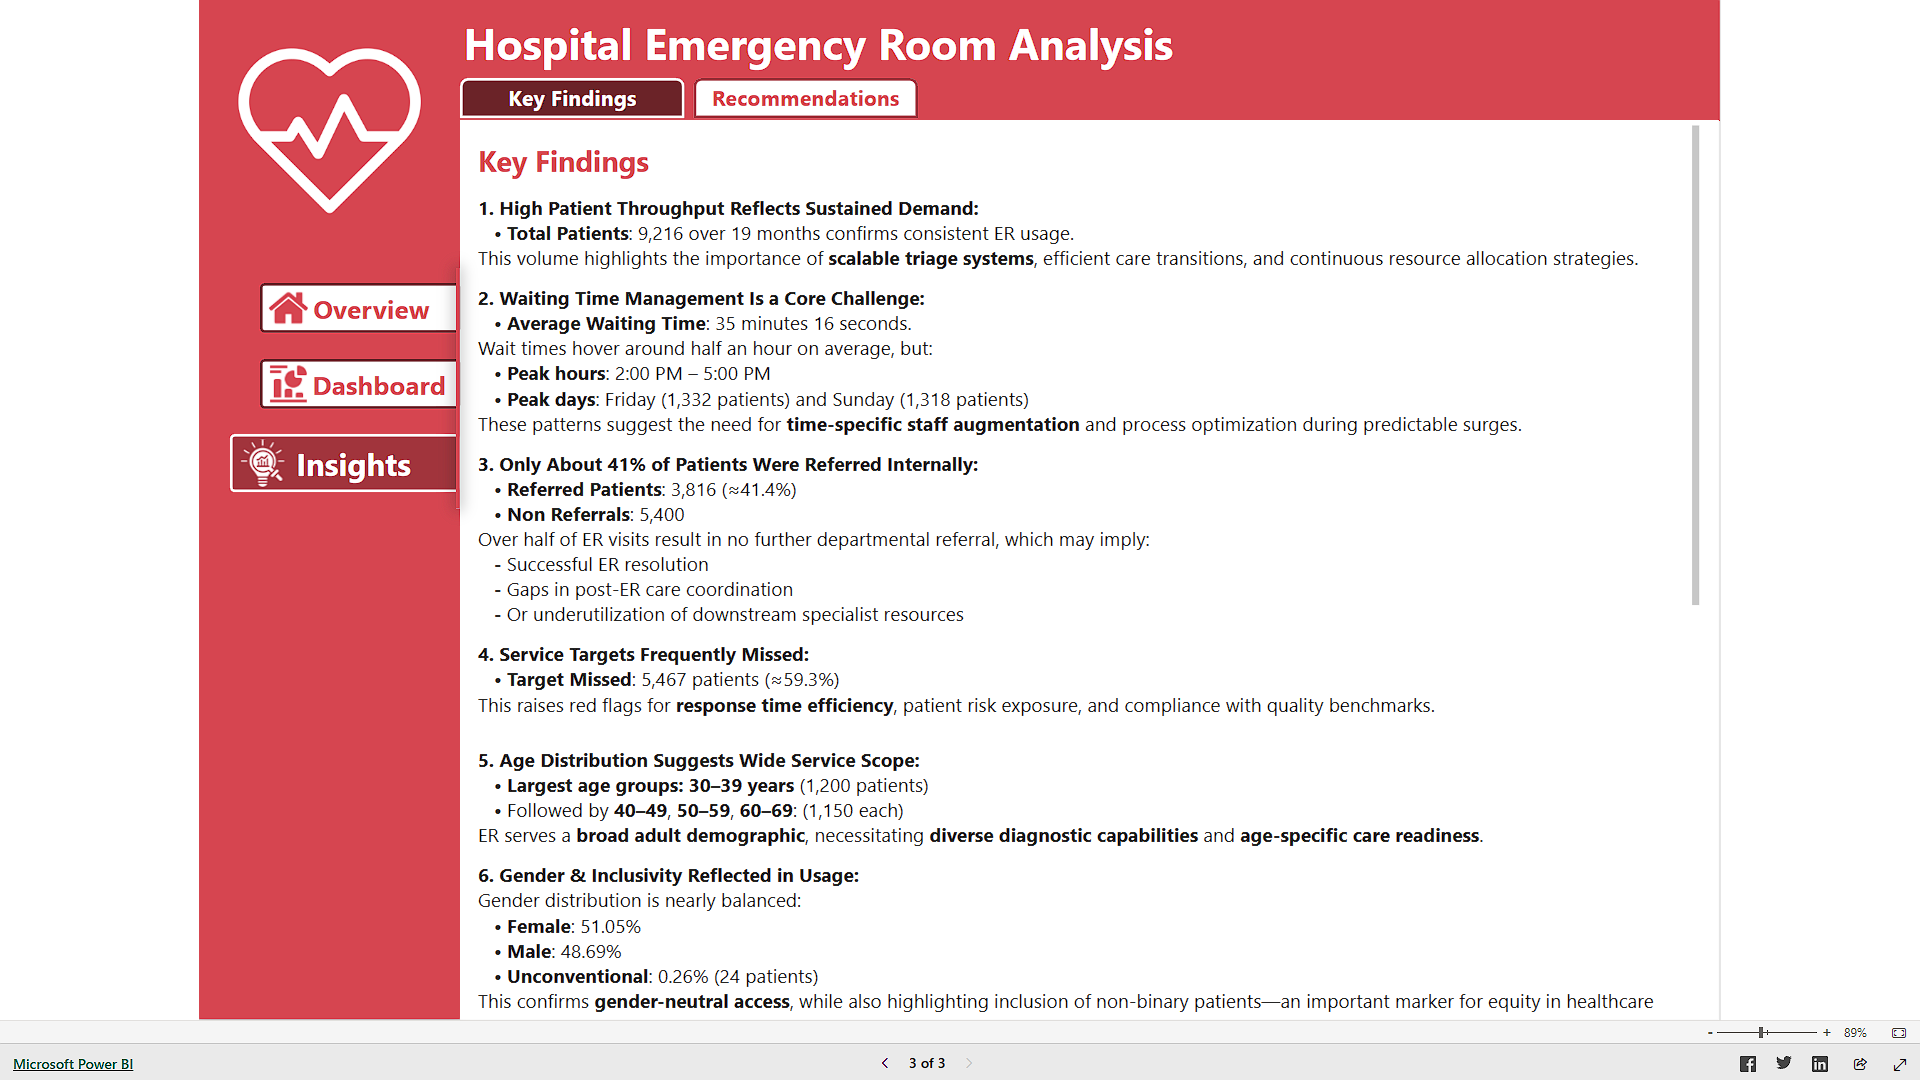

This screenshot's page, from the dashboard's own definition file:
{"tool":"powerbi","page":{"name":"Key Findings","canvas":[1700,1140],"ordinal":7},"visuals":[{"type":"shape","box":[0,0,292.2,1139.5],"z":0},{"type":"textbox","title":"Hospital Emergency Room Analysis","box":[290.8,14.7,938.4,91],"z":0,"group":"g1"},{"type":"actionButton","box":[68.2,316.7,224,55.7],"z":0,"group":"g2"},{"type":"shape","box":[292,0,1408,135],"z":1000},{"type":"actionButton","box":[68.2,401.6,224,55.7],"z":1000,"group":"g2"},{"type":"image","box":[0,38.6,291.4,214.3],"z":2000},{"type":"actionButton","box":[35,485.2,257,65],"z":2000,"group":"g2"},{"type":"shape","box":[291.4,134.3,1407.1,1005.7],"z":3000},{"type":"shape","box":[288,300,4.2,268.5],"z":3000,"group":"g2"},{"type":"textbox","box":[292.2,135,1405.2,1004.5],"z":4000},{"type":"pageNavigator","box":[292.2,87.7,513.4,45.9],"z":5000},{"type":"group","id":"g1","title":"Group 1","box":[290.8,14.7,938.4,91],"z":6000},{"type":"group","id":"g2","title":"Group 2","box":[35,300,257.2,268.5],"z":7000}]}

Visuals, with their boxes on the page's 1700x1140 design canvas (x1, y1, x2, y2). These are canvas units, not pixel positions in the 1920x1080 screenshot, which may show the page scaled, cropped or inside an application window:
shape: (x1=0, y1=0, x2=292, y2=1140)
"Hospital Emergency Room Analysis" textbox: (x1=291, y1=15, x2=1229, y2=106)
actionButton: (x1=68, y1=317, x2=292, y2=372)
shape: (x1=292, y1=0, x2=1700, y2=135)
actionButton: (x1=68, y1=402, x2=292, y2=457)
image: (x1=0, y1=39, x2=291, y2=253)
actionButton: (x1=35, y1=485, x2=292, y2=550)
shape: (x1=291, y1=134, x2=1698, y2=1140)
shape: (x1=288, y1=300, x2=292, y2=568)
textbox: (x1=292, y1=135, x2=1697, y2=1140)
pageNavigator: (x1=292, y1=88, x2=806, y2=134)
"Group 1" group: (x1=291, y1=15, x2=1229, y2=106)
"Group 2" group: (x1=35, y1=300, x2=292, y2=568)
